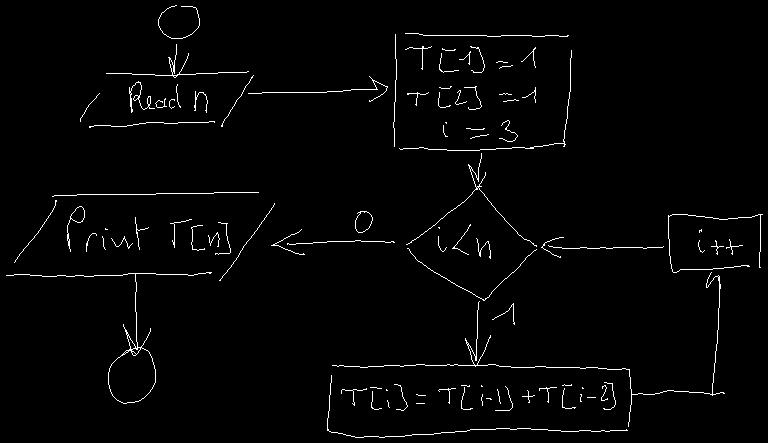arrow: (631, 272, 724, 396), (248, 76, 387, 101), (271, 229, 394, 254), (541, 237, 663, 257), (123, 274, 150, 355), (465, 301, 490, 366), (168, 44, 188, 77), (468, 153, 485, 189)
connection: (108, 347, 155, 403), (158, 5, 199, 38)
data: (6, 192, 274, 280), (80, 71, 253, 127)
decision: (406, 186, 536, 300)
process: (327, 364, 631, 437), (393, 33, 571, 150), (668, 214, 762, 272)
text: (405, 46, 535, 141), (67, 206, 230, 254), (341, 382, 615, 410), (129, 81, 207, 112), (438, 224, 490, 258), (698, 229, 742, 254), (492, 303, 514, 324), (355, 211, 372, 232)
